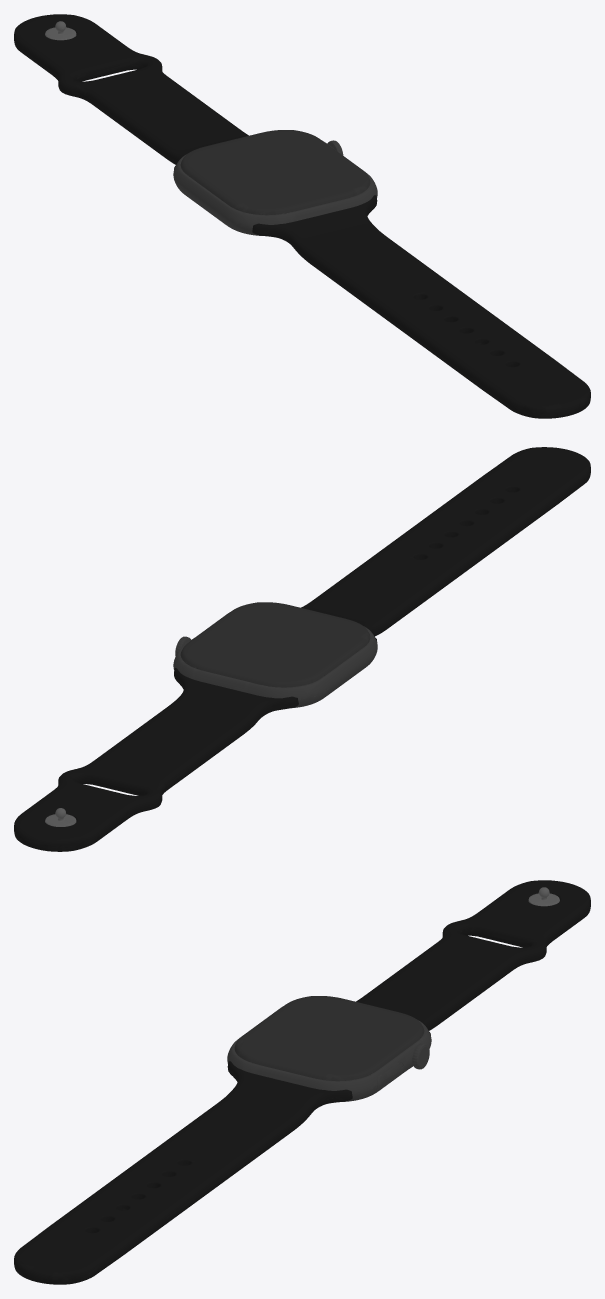
File: apple-watch-series-11-room.glb
3 views of the same model, one above another, from view 1: azimuth 30°, elevation 25°; view 2: azimuth 150°, elevation 25°; view 3: azimuth 330°, elevation 25° (orthographic).
Visible parts, largest first — view 1: Apple Watch Series 11 - Jet Black_AppleWatch11_MTL_0; view 2: Apple Watch Series 11 - Jet Black_AppleWatch11_MTL_0; view 3: Apple Watch Series 11 - Jet Black_AppleWatch11_MTL_0.
Part boxes in pixels (x1=…): Apple Watch Series 11 - Jet Black_AppleWatch11_MTL_0: x1=14, y1=14, x2=590, y2=418; Apple Watch Series 11 - Jet Black_AppleWatch11_MTL_0: x1=14, y1=447, x2=590, y2=851; Apple Watch Series 11 - Jet Black_AppleWatch11_MTL_0: x1=14, y1=880, x2=590, y2=1284.
Size of the model in its own units: 1.95 by 0.4057 by 11.91.
Materials: 1 (1 with a texture image).
